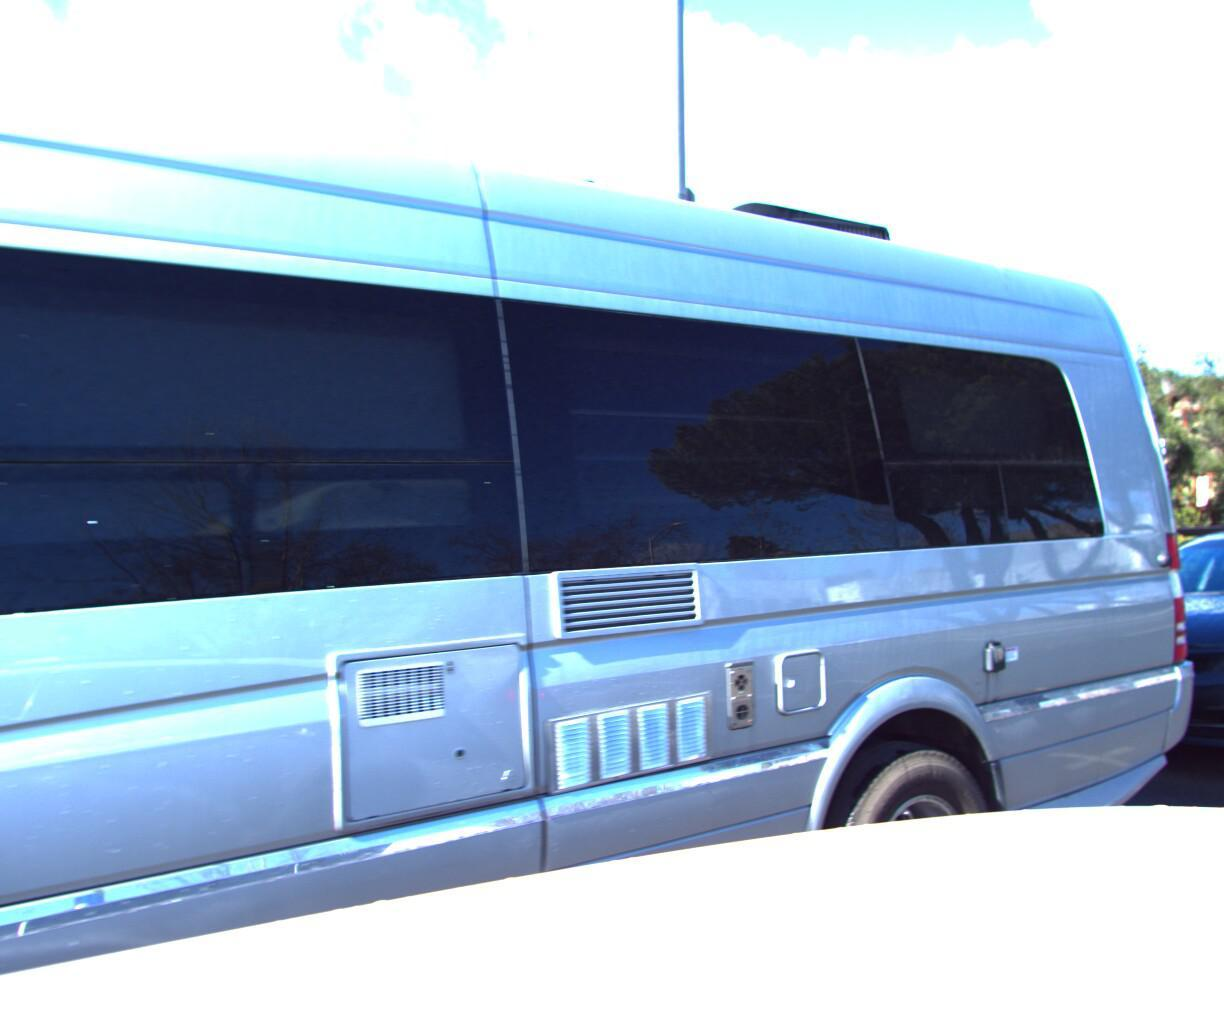car: (1000, 513, 1224, 809)
